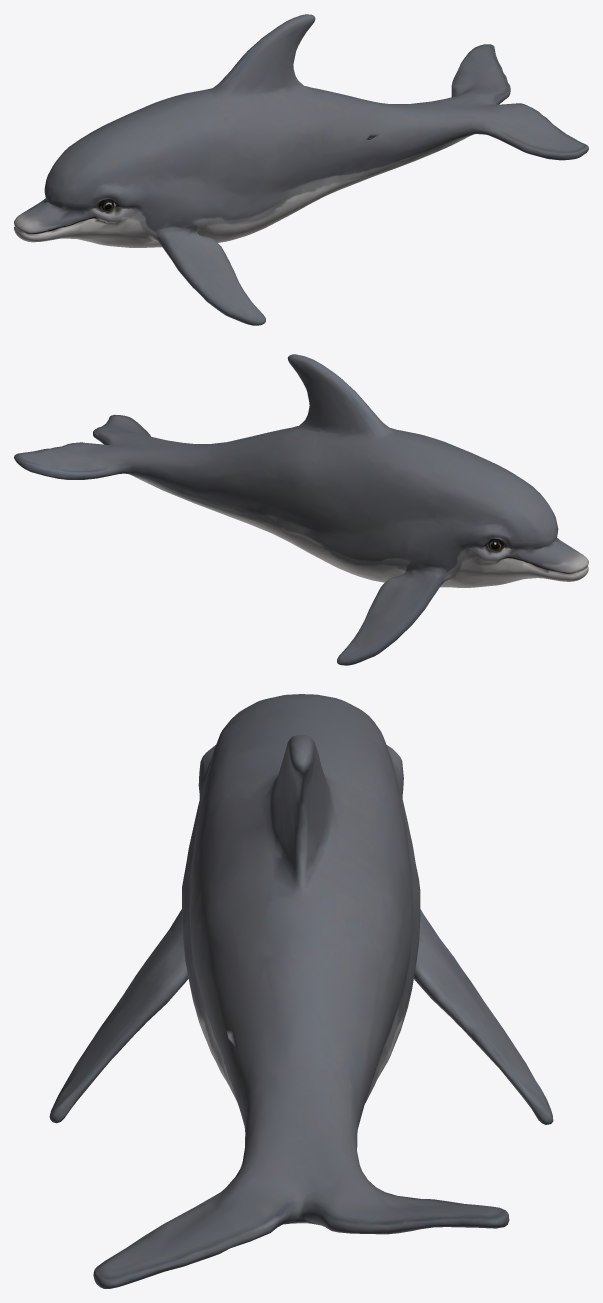
File: fauna-delfin.glb
3 renders of one model, top to bottom at view 1: azimuth 30°, elevation 25°; view 2: azimuth 150°, elevation 25°; view 3: azimuth 270°, elevation 25°, orthographic. The views are drawn at different scales.
Parts seen in each view (by area): view 1: tripo_node_86684010-db85-4ef5-89bd-d4510dd14465; view 2: tripo_node_86684010-db85-4ef5-89bd-d4510dd14465; view 3: tripo_node_86684010-db85-4ef5-89bd-d4510dd14465.
Boxes of the visible parts, x1=… form: tripo_node_86684010-db85-4ef5-89bd-d4510dd14465: x1=14, y1=14, x2=588, y2=325; tripo_node_86684010-db85-4ef5-89bd-d4510dd14465: x1=14, y1=354, x2=588, y2=665; tripo_node_86684010-db85-4ef5-89bd-d4510dd14465: x1=49, y1=694, x2=553, y2=1288.
Bounding box in the file's own units: 1 × 0.4361 × 0.4164.
1 material, 1 textured.
